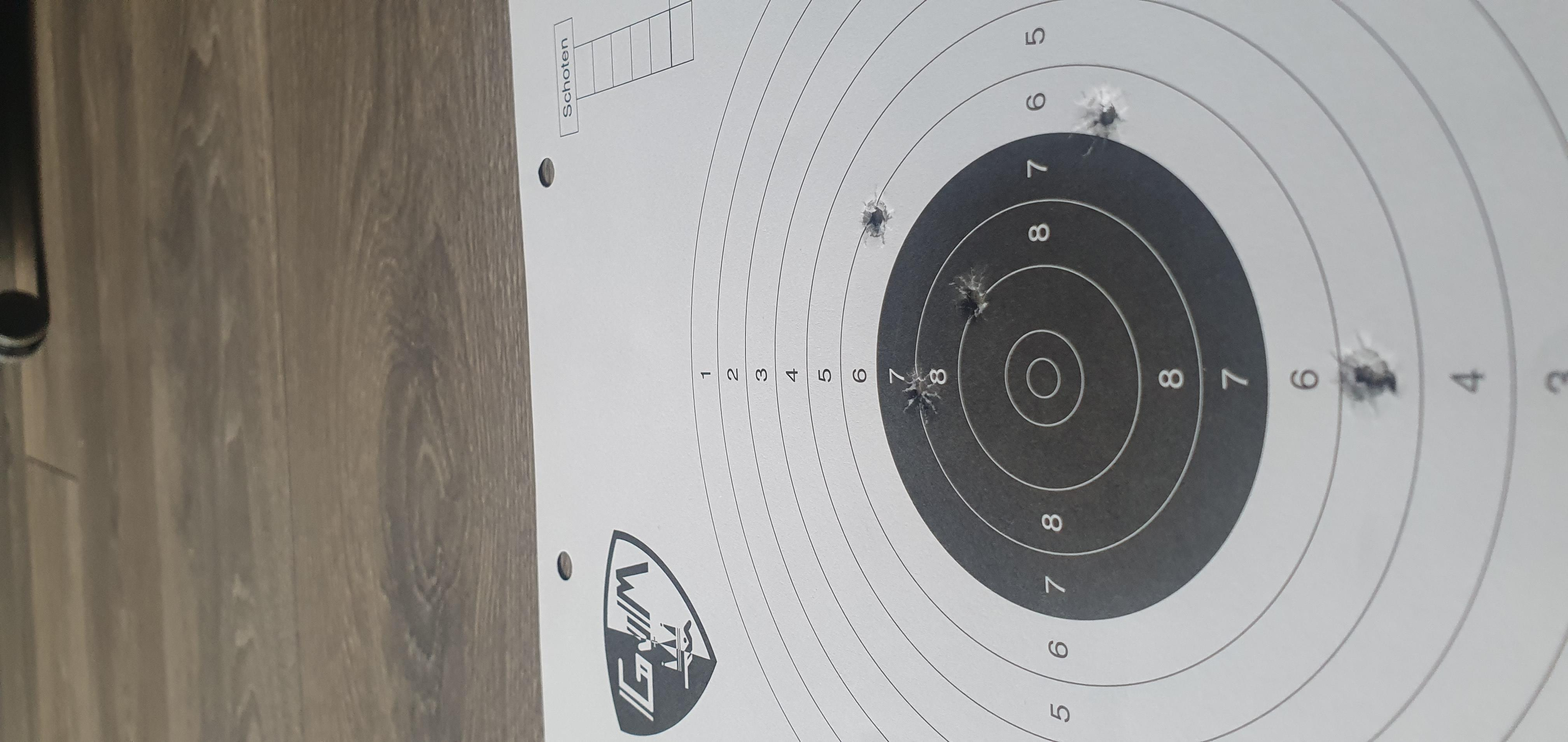hole: (690, 629, 858, 663), (1238, 509, 1394, 534), (677, 426, 803, 446), (882, 449, 1008, 469), (1046, 404, 1161, 424)
